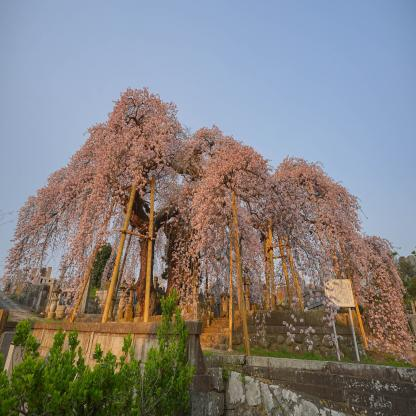ShidareZakura: (0, 87, 416, 366)
